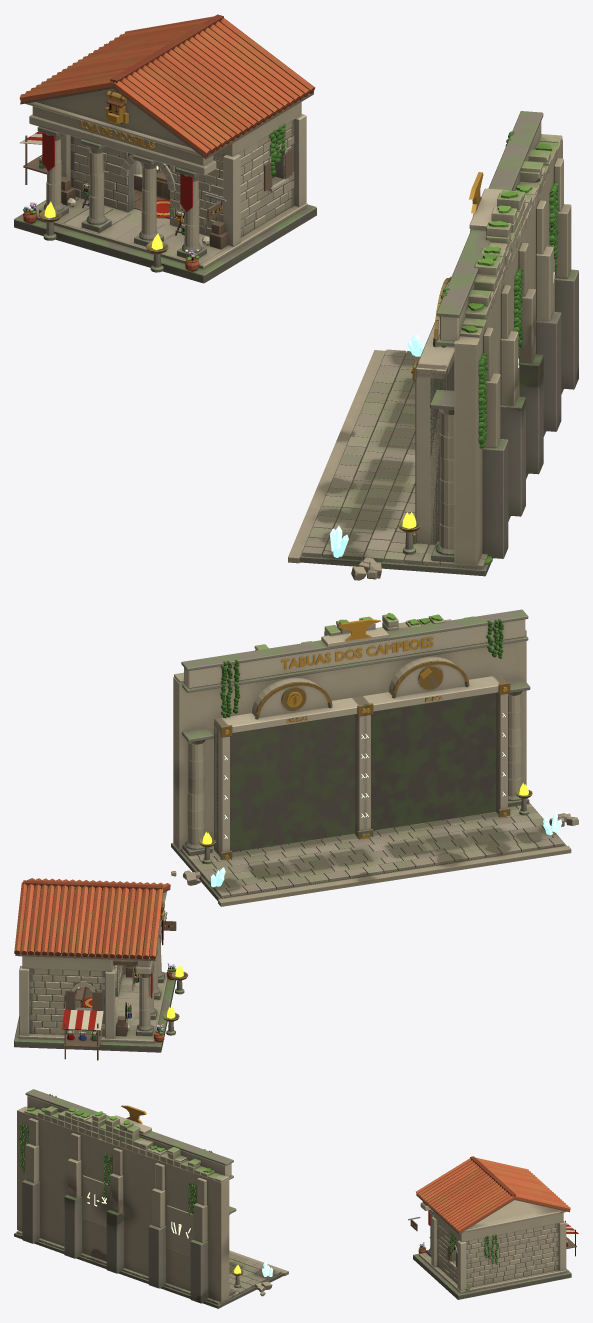
The model's file is LOBBY_SN_05_SERVICES_06bf56.fbx.
The picture shows the model from 3 angles, top to bottom: view 1: azimuth 30°, elevation 25°; view 2: azimuth 150°, elevation 25°; view 3: azimuth 270°, elevation 25°; orthographic projection. The views are drawn at different scales.
Visible parts, largest first — view 1: WB_Shop_Temple__SNB_Shop_1__SNB_Shop_1, WB_Rank_Tablets__SNB_Rank_1__SNB_Rank_1, WB_Rank_Tablets__SNB_Rank_2__SNB_Rank_2, WB_Shop_Temple__SNB_Shop_2__SNB_Shop_2, WB_Shop_Inside__SNB_ShopIn__SNB_ShopIn; view 2: WB_Rank_Tablets__SNB_Rank_2__SNB_Rank_2, WB_Rank_Tablets__SNB_Rank_1__SNB_Rank_1, WB_Shop_Temple__SNB_Shop_2__SNB_Shop_2, WB_Shop_Temple__SNB_Shop_1__SNB_Shop_1; view 3: WB_Rank_Tablets__SNB_Rank_1__SNB_Rank_1, WB_Rank_Tablets__SNB_Rank_2__SNB_Rank_2, WB_Shop_Temple__SNB_Shop_1__SNB_Shop_1, WB_Shop_Temple__SNB_Shop_2__SNB_Shop_2.
Part boxes in pixels (x1,y1,x2,y2): WB_Shop_Temple__SNB_Shop_1__SNB_Shop_1: [14, 18, 316, 283]; WB_Rank_Tablets__SNB_Rank_1__SNB_Rank_1: [302, 139, 562, 580]; WB_Rank_Tablets__SNB_Rank_2__SNB_Rank_2: [288, 111, 578, 576]; WB_Shop_Temple__SNB_Shop_2__SNB_Shop_2: [19, 14, 301, 240]; WB_Shop_Inside__SNB_ShopIn__SNB_ShopIn: [134, 160, 275, 218]; WB_Rank_Tablets__SNB_Rank_2__SNB_Rank_2: [171, 609, 571, 906]; WB_Rank_Tablets__SNB_Rank_1__SNB_Rank_1: [173, 612, 578, 857]; WB_Shop_Temple__SNB_Shop_2__SNB_Shop_2: [14, 880, 179, 1060]; WB_Shop_Temple__SNB_Shop_1__SNB_Shop_1: [14, 878, 188, 1052]; WB_Rank_Tablets__SNB_Rank_1__SNB_Rank_1: [16, 1094, 229, 1302]; WB_Rank_Tablets__SNB_Rank_2__SNB_Rank_2: [14, 1089, 288, 1308]; WB_Shop_Temple__SNB_Shop_1__SNB_Shop_1: [408, 1158, 571, 1299]; WB_Shop_Temple__SNB_Shop_2__SNB_Shop_2: [434, 1156, 578, 1287].
Bounding box in the file's own units: 65.05 × 43.6 × 144.
Materials: 10 (5 with a texture image).
